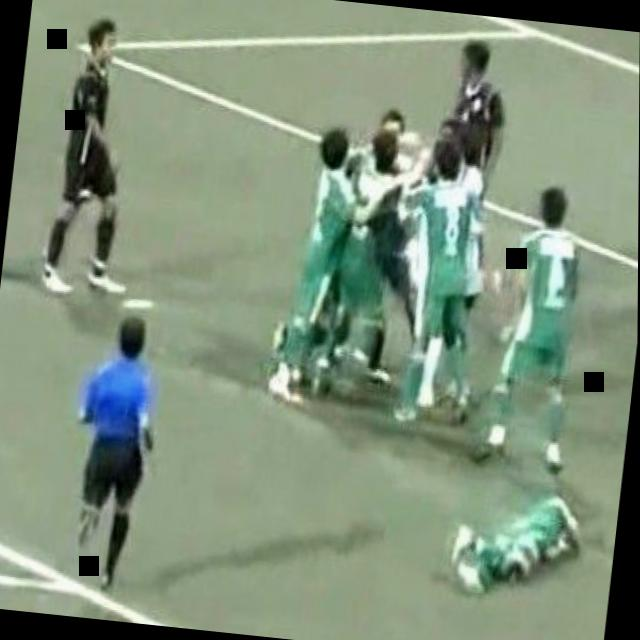Fall-Detected: (439, 458, 605, 616)
